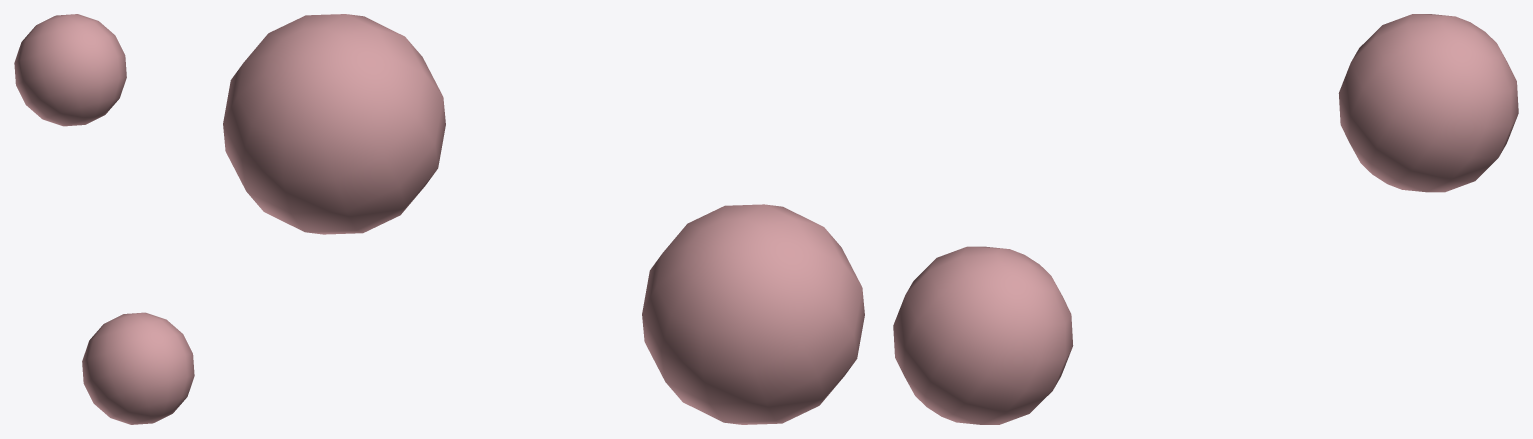
The picture shows the model from 3 angles, left to right: view 1: azimuth 30°, elevation 25°; view 2: azimuth 150°, elevation 25°; view 3: azimuth 270°, elevation 25°; orthographic projection. The views are drawn at different scales.
Visible parts, largest first — view 1: ZA_cc05001c4ffceb54; view 2: ZA_cc05001c4ffceb54; view 3: ZA_cc05001c4ffceb54.
Boxes of the visible parts, x1,y1,x2,y2 form: ZA_cc05001c4ffceb54: (14,14,194,424); ZA_cc05001c4ffceb54: (223,14,864,424); ZA_cc05001c4ffceb54: (893,14,1518,424).
Size of the model in its own units: 0.00448 by 0.00712 by 0.00893.
